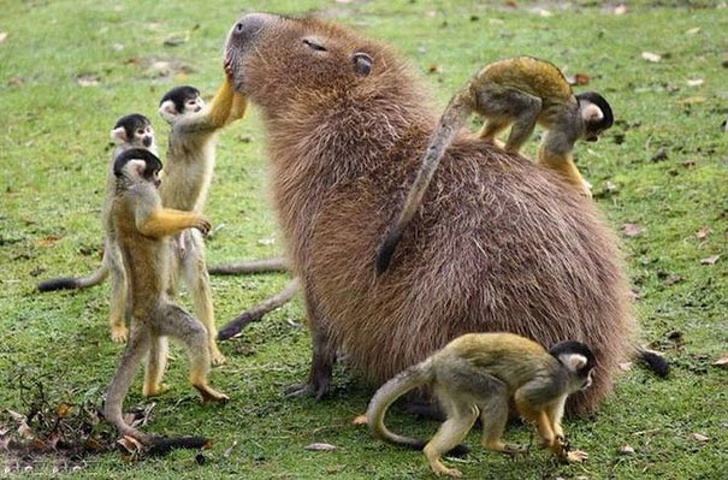capivara: (223, 11, 642, 424)
